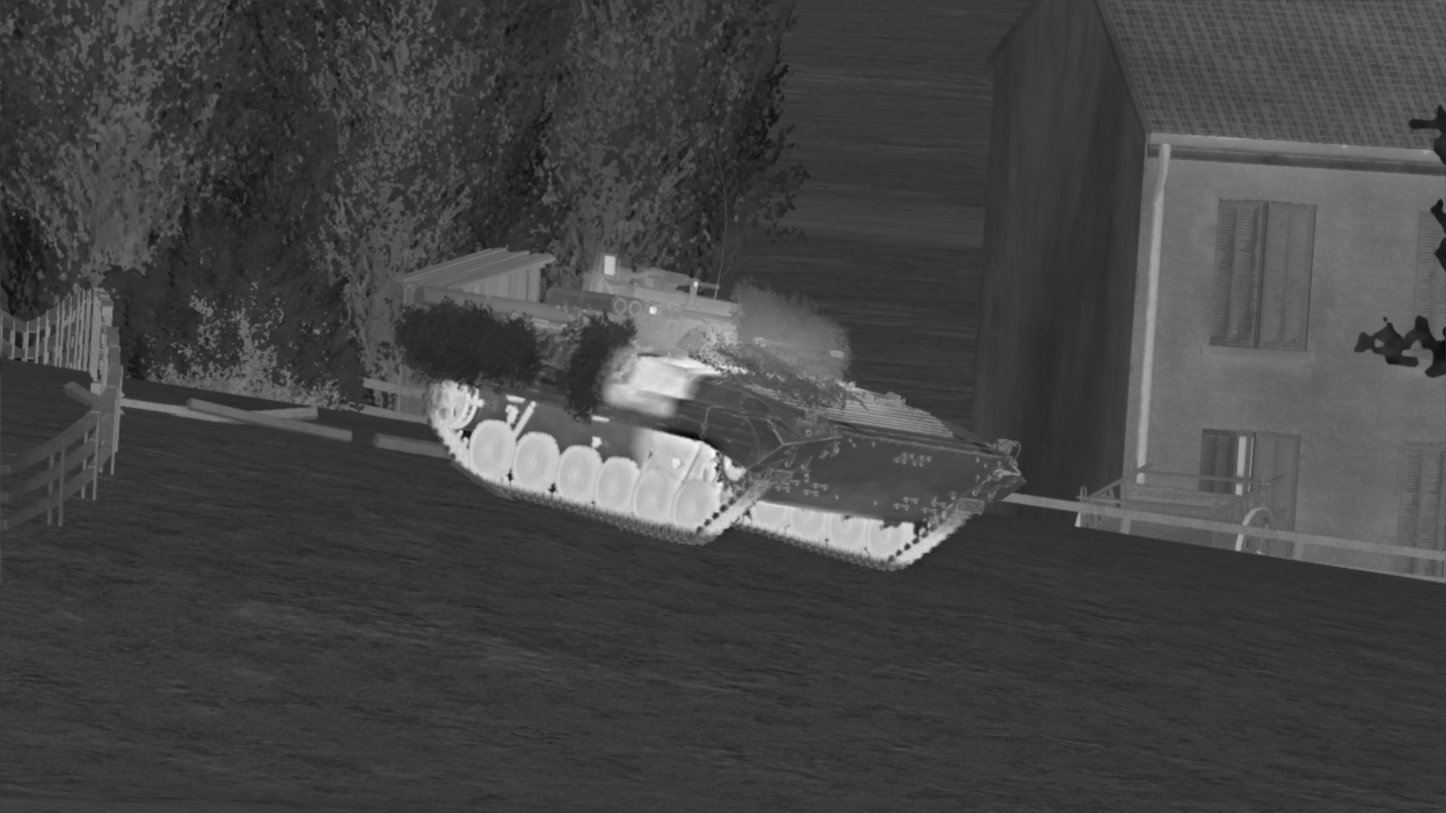bmp2: (420, 250, 1027, 574)
